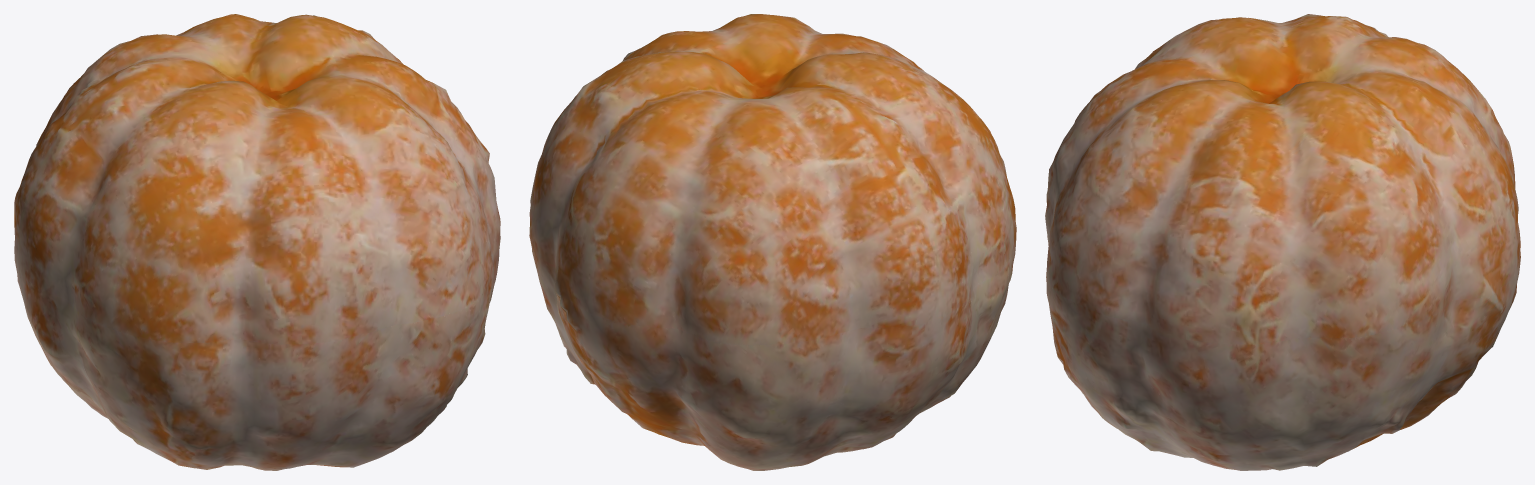
File: clementine-2.glb
The picture shows the model from 3 angles, left to right: view 1: azimuth 30°, elevation 25°; view 2: azimuth 150°, elevation 25°; view 3: azimuth 270°, elevation 25°; orthographic projection.
Visible parts, largest first — view 1: tangerine peeled_0; view 2: tangerine peeled_0; view 3: tangerine peeled_0.
Part boxes in pixels (<box>): tangerine peeled_0: <box>14,14,500,470</box>; tangerine peeled_0: <box>529,14,1016,470</box>; tangerine peeled_0: <box>1045,14,1520,470</box>.
Size of the model in its own units: 0.1861 by 0.1603 by 0.1848.
Materials: 1 (1 with a texture image).
